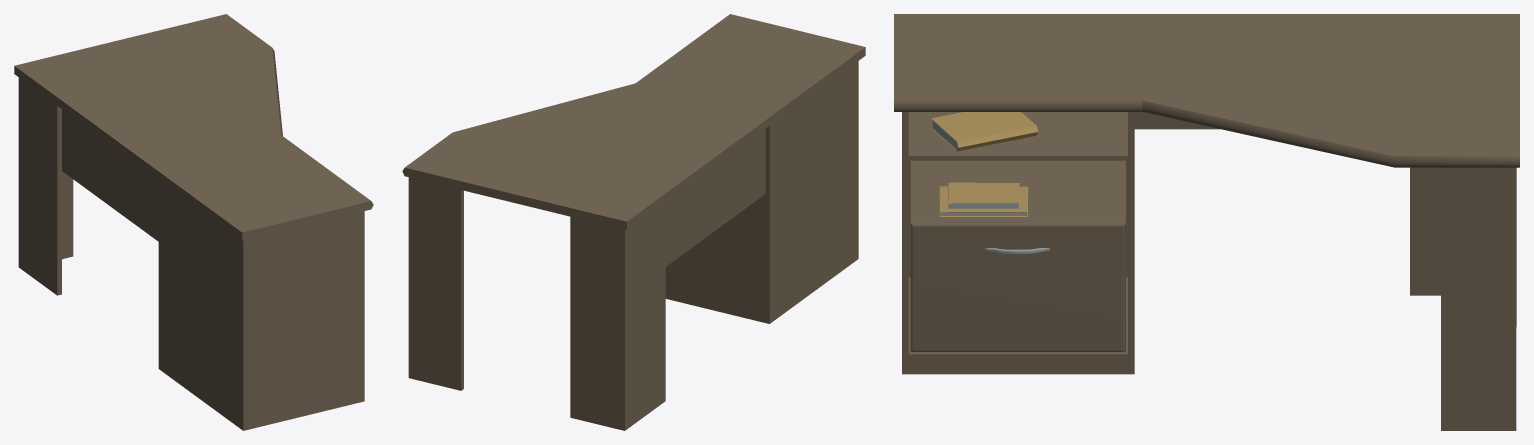
Rendered from office_table_3.fbx.
3 renders of one model, left to right at view 1: azimuth 30°, elevation 25°; view 2: azimuth 150°, elevation 25°; view 3: azimuth 270°, elevation 25°, orthographic. The views are drawn at different scales.
Visible parts, largest first — view 1: table_3; view 2: table_3; view 3: table_3, polySurface4, polySurface6, polySurface9.
Boxes of the visible parts, left/top/right/bottom form: table_3: left=14, top=14, right=373, bottom=430; table_3: left=402, top=14, right=865, bottom=430; table_3: left=894, top=14, right=1519, bottom=430; polySurface4: left=931, top=112, right=1038, bottom=151; polySurface6: left=948, top=182, right=1019, bottom=209; polySurface9: left=939, top=186, right=1028, bottom=216.
Size of the model in its own units: 1.75 by 1.57 by 3.23.
